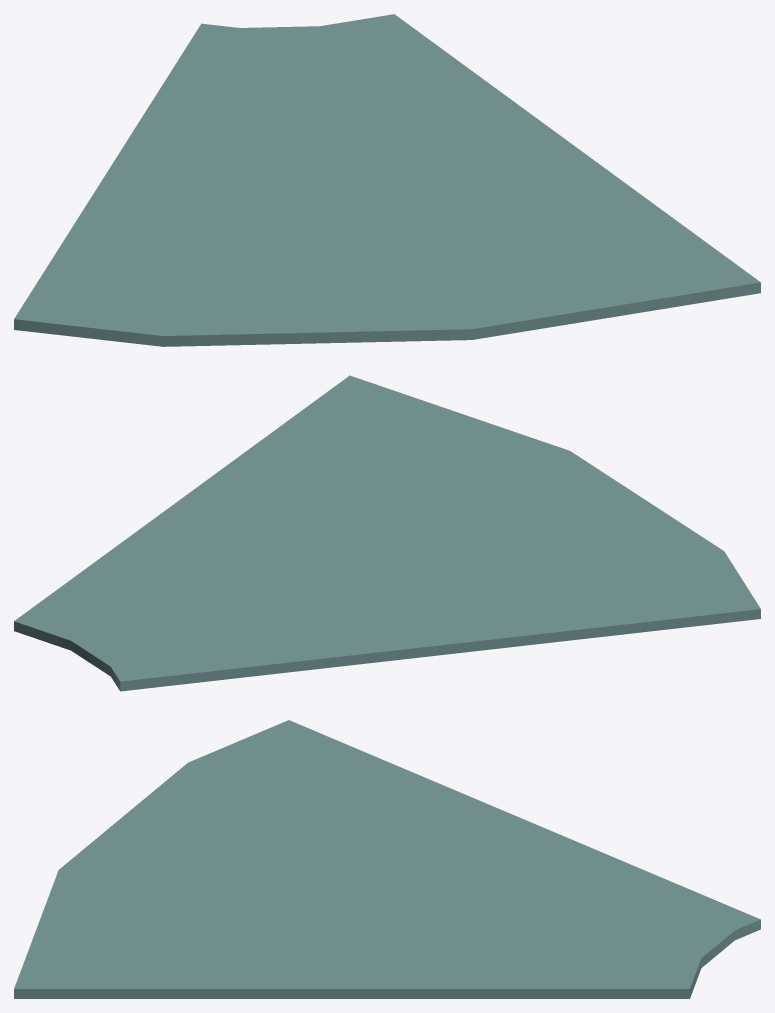
File: Track_45Turn (1).fbx
3 views of the same model, one above another, from view 1: azimuth 30°, elevation 25°; view 2: azimuth 150°, elevation 25°; view 3: azimuth 270°, elevation 25° (orthographic). The views are drawn at different scales.
Parts seen in each view (by area): view 1: pTorus2; view 2: pTorus2; view 3: pTorus2.
Boxes of the visible parts, <box> form: pTorus2: <box>14,14,760,346</box>; pTorus2: <box>14,375,760,691</box>; pTorus2: <box>14,720,760,998</box>.
Size of the model in its own units: 575 by 9.9 by 675.
